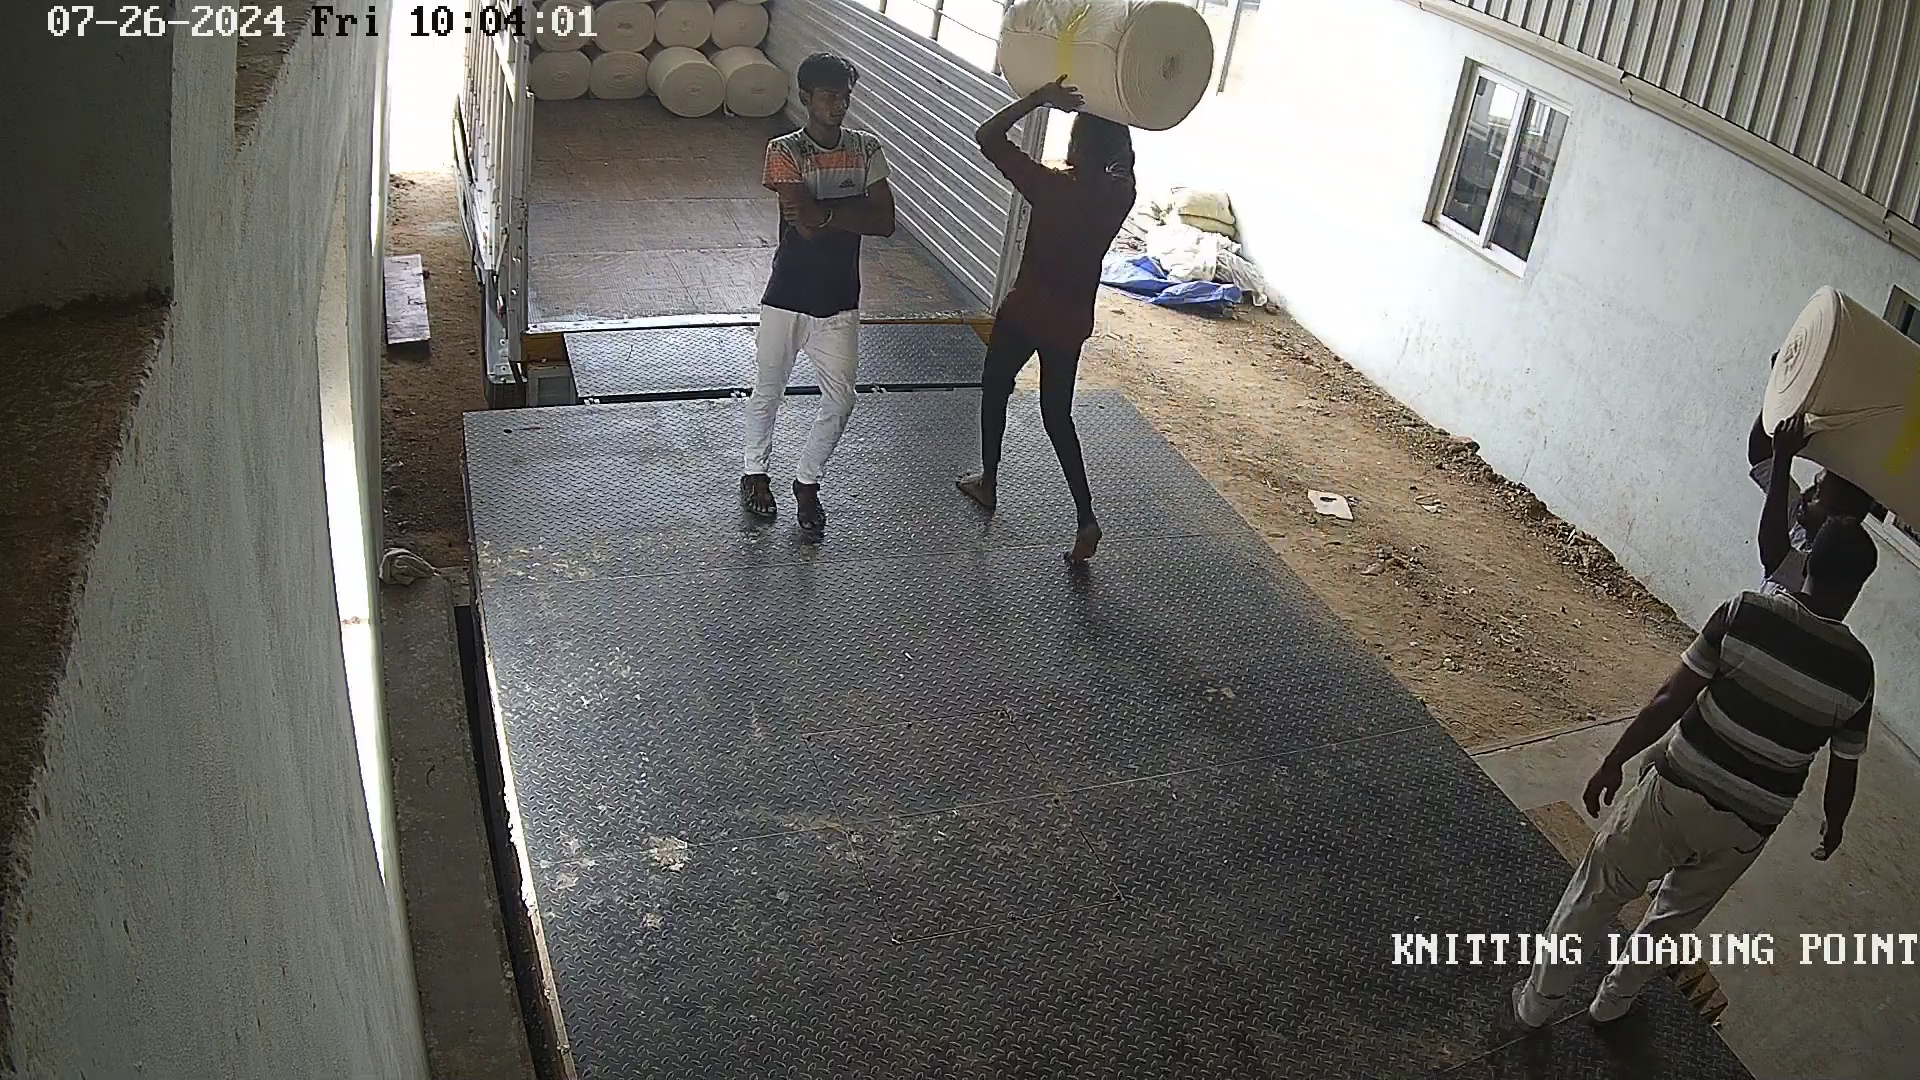bag: (972, 3, 1222, 138)
